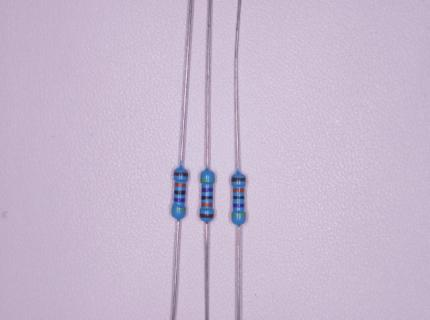Black band: (174, 190, 185, 195), (201, 196, 213, 200), (233, 196, 245, 199)
Brown band: (173, 172, 188, 177), (231, 177, 246, 182), (200, 214, 214, 218)
Orange band: (174, 182, 186, 188), (233, 188, 244, 193), (201, 203, 213, 207)
Violet band: (173, 198, 185, 203), (233, 203, 245, 208), (201, 188, 213, 192)
Yellow band: (231, 213, 246, 218), (171, 208, 186, 212), (200, 179, 215, 182)
